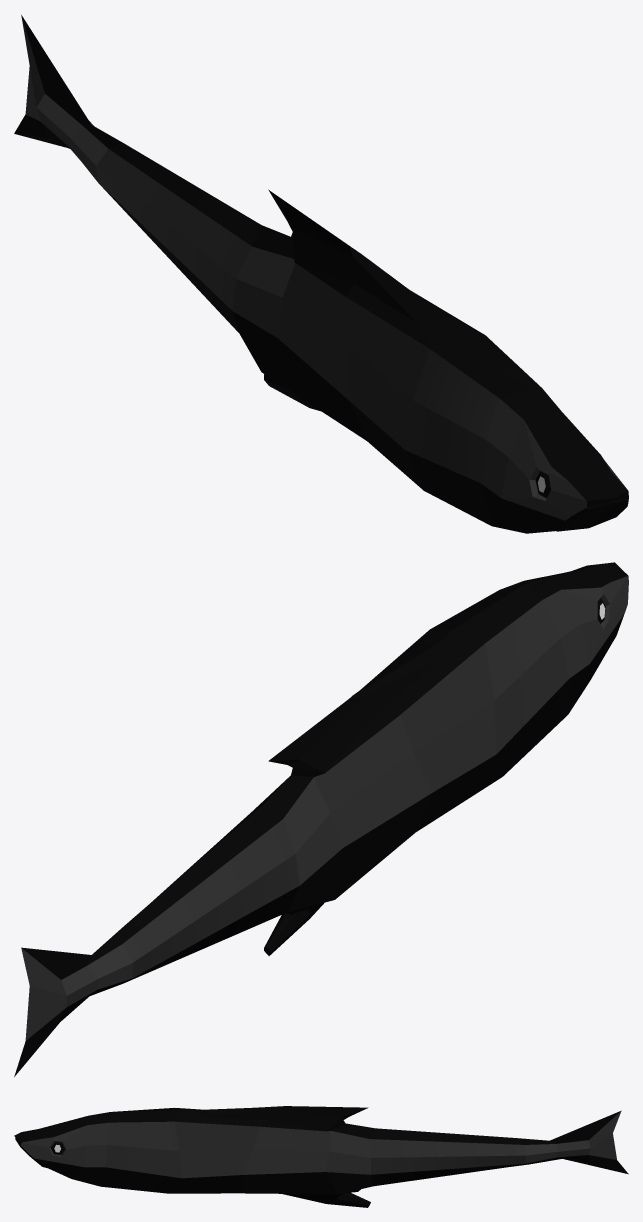
Rendered from Fish-3f.fbx.
3 renders of one model, top to bottom at view 1: azimuth 30°, elevation 25°; view 2: azimuth 150°, elevation 25°; view 3: azimuth 270°, elevation 25°, orthographic. The views are drawn at different scales.
Visible parts, largest first — view 1: Fish-3f; view 2: Fish-3f; view 3: Fish-3f.
Part boxes in pixels (x1=…): Fish-3f: x1=14, y1=15, x2=628, y2=533; Fish-3f: x1=14, y1=562, x2=628, y2=1076; Fish-3f: x1=14, y1=1106, x2=628, y2=1207.
Bounding box in the file's own units: 0.0762 × 0.1587 × 0.868.
